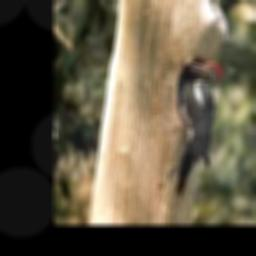Woodpecker: (176, 61, 224, 195)
